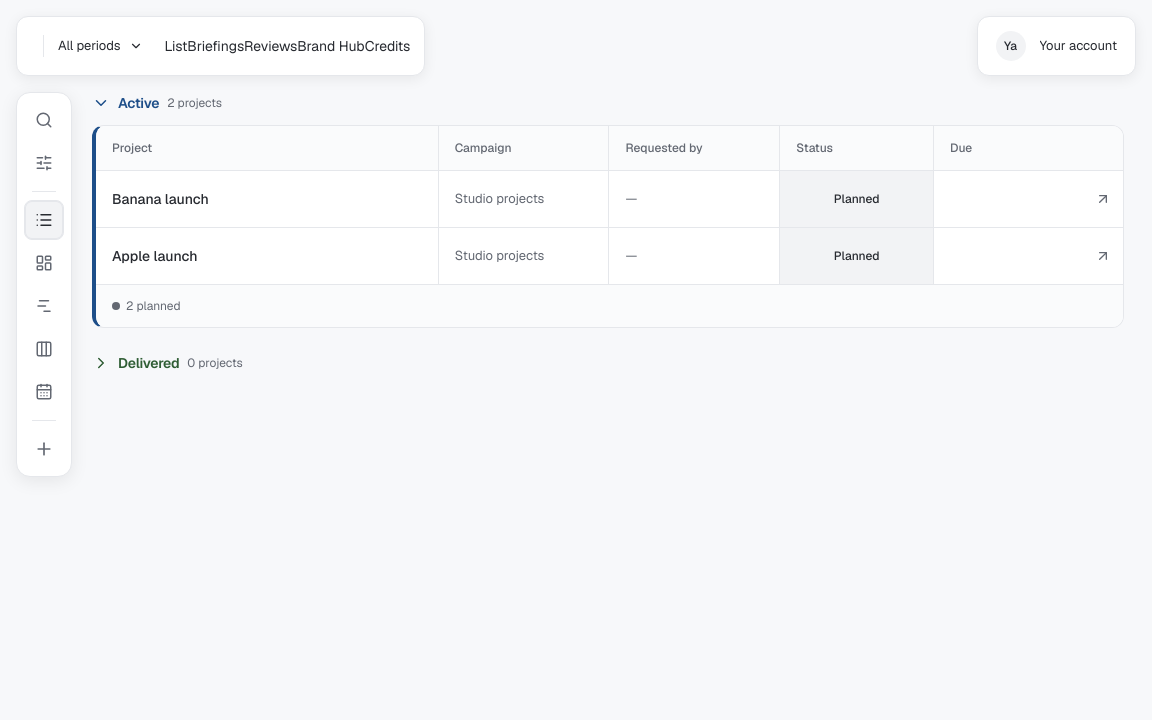
Test: BoardPage list sort › keeps the sort when switching views
The width and height of the screenshot is (1152, 720).
Click the button "Project" at (132, 148), box [96,126,438,170]
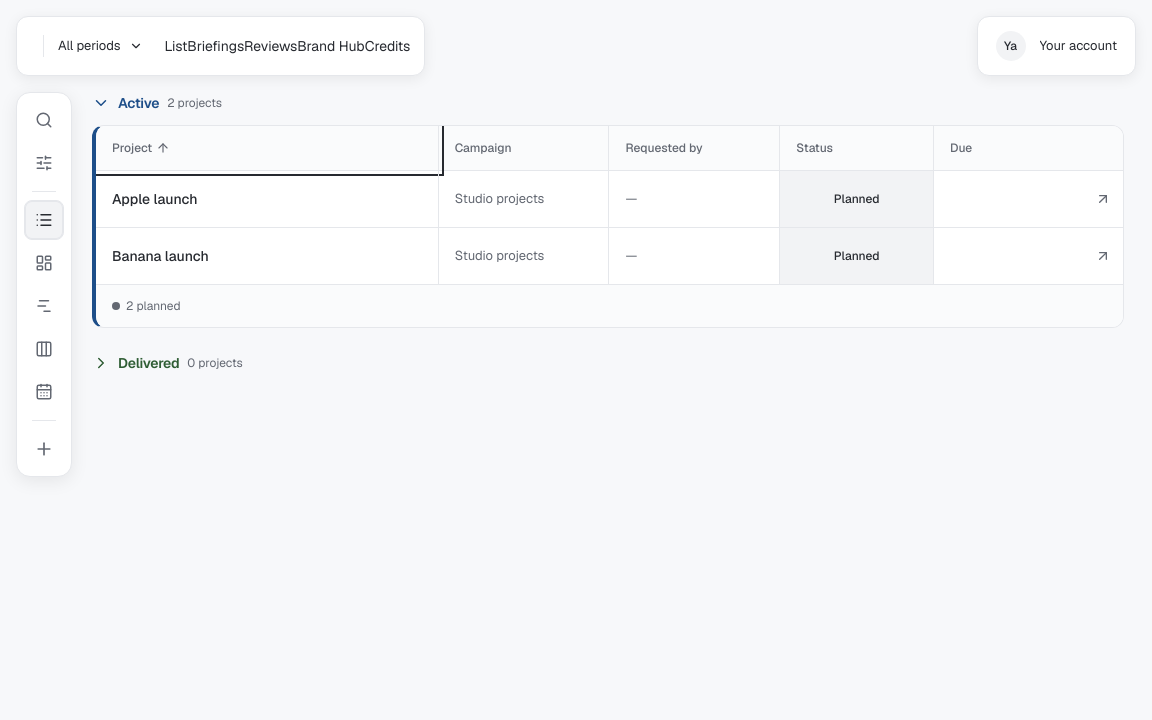
Click the button named "Canvas view" at (44, 263), box [24,243,64,283]
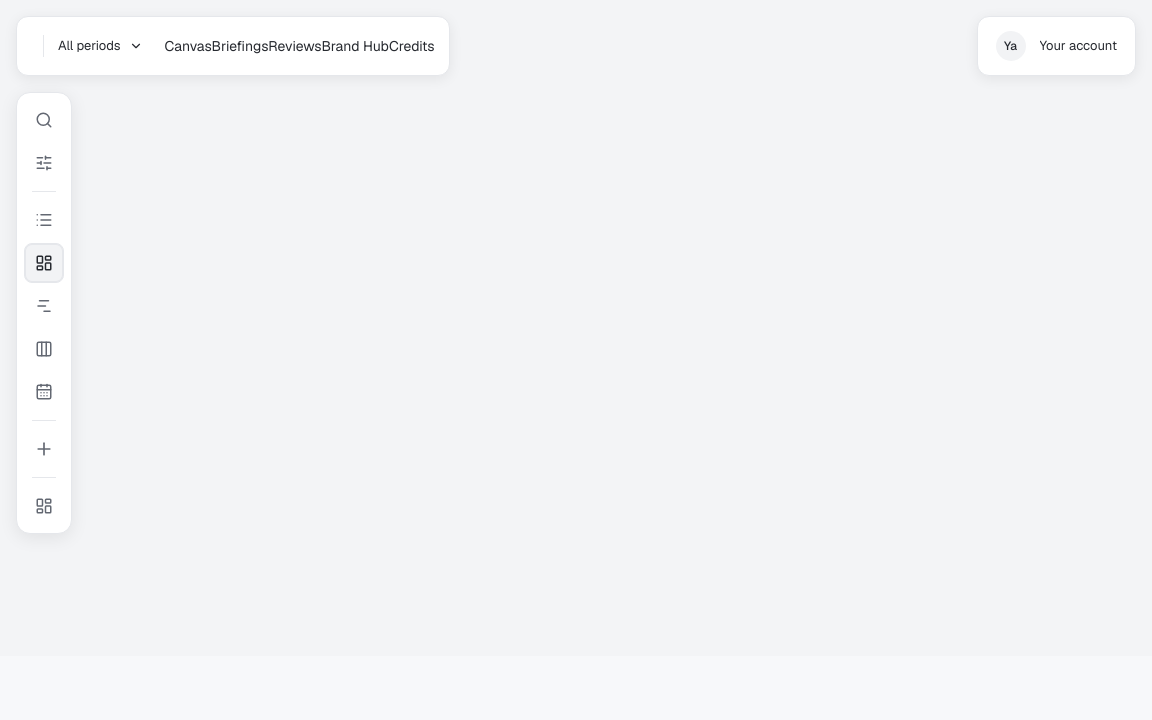
Click the button named "List view" at (44, 220), box [24,200,64,240]
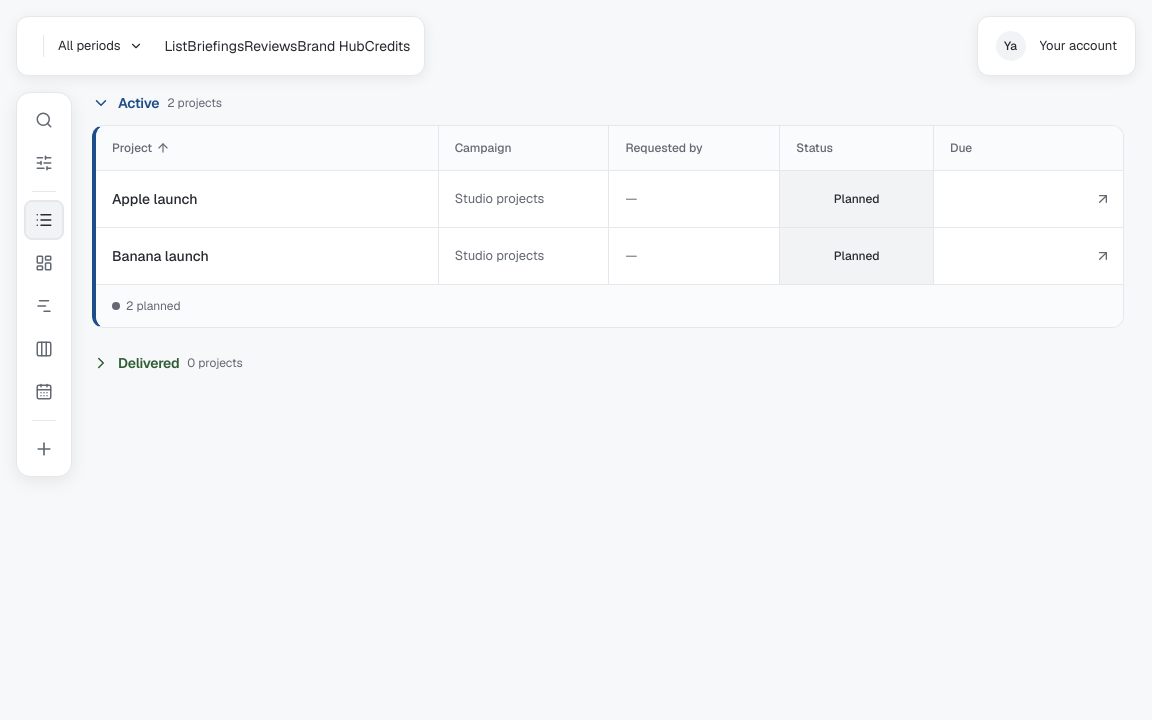
expect the button with aria-label "Project, A to Z. Click to reverse" is shown: met, box [96,126,438,170]
